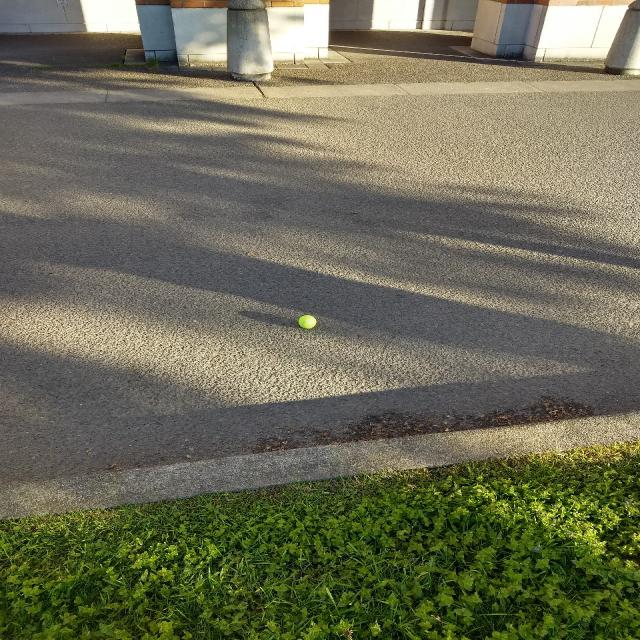Tennis-Ball: (299, 313, 316, 329)
